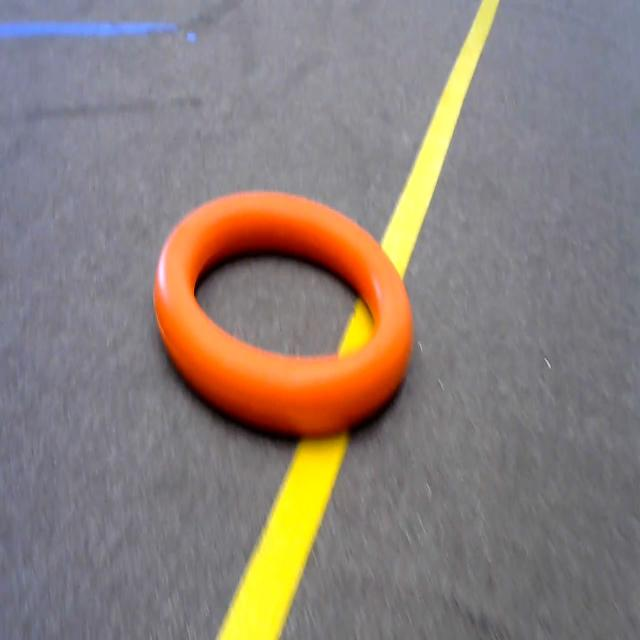note: (135, 168, 447, 465)
